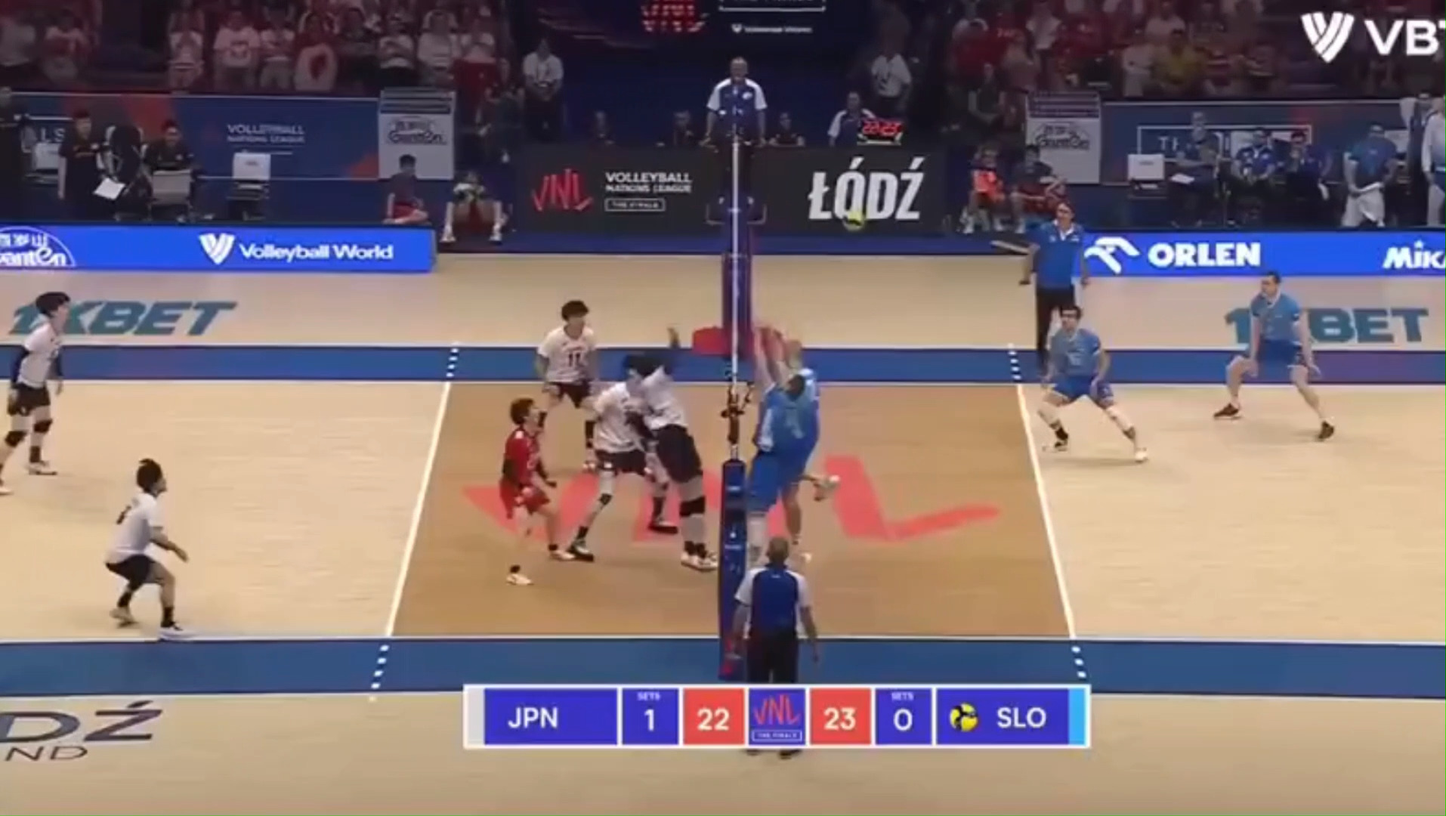ball: (840, 208, 867, 231)
player: (1213, 272, 1335, 440), (1037, 305, 1148, 461), (780, 340, 838, 544), (746, 374, 796, 557)
player 1: (624, 329, 716, 570), (570, 383, 674, 559), (497, 397, 579, 586), (106, 459, 188, 639), (0, 291, 71, 475), (535, 299, 598, 468)
referee: (732, 536, 817, 684), (1021, 202, 1088, 376), (700, 57, 768, 222)
